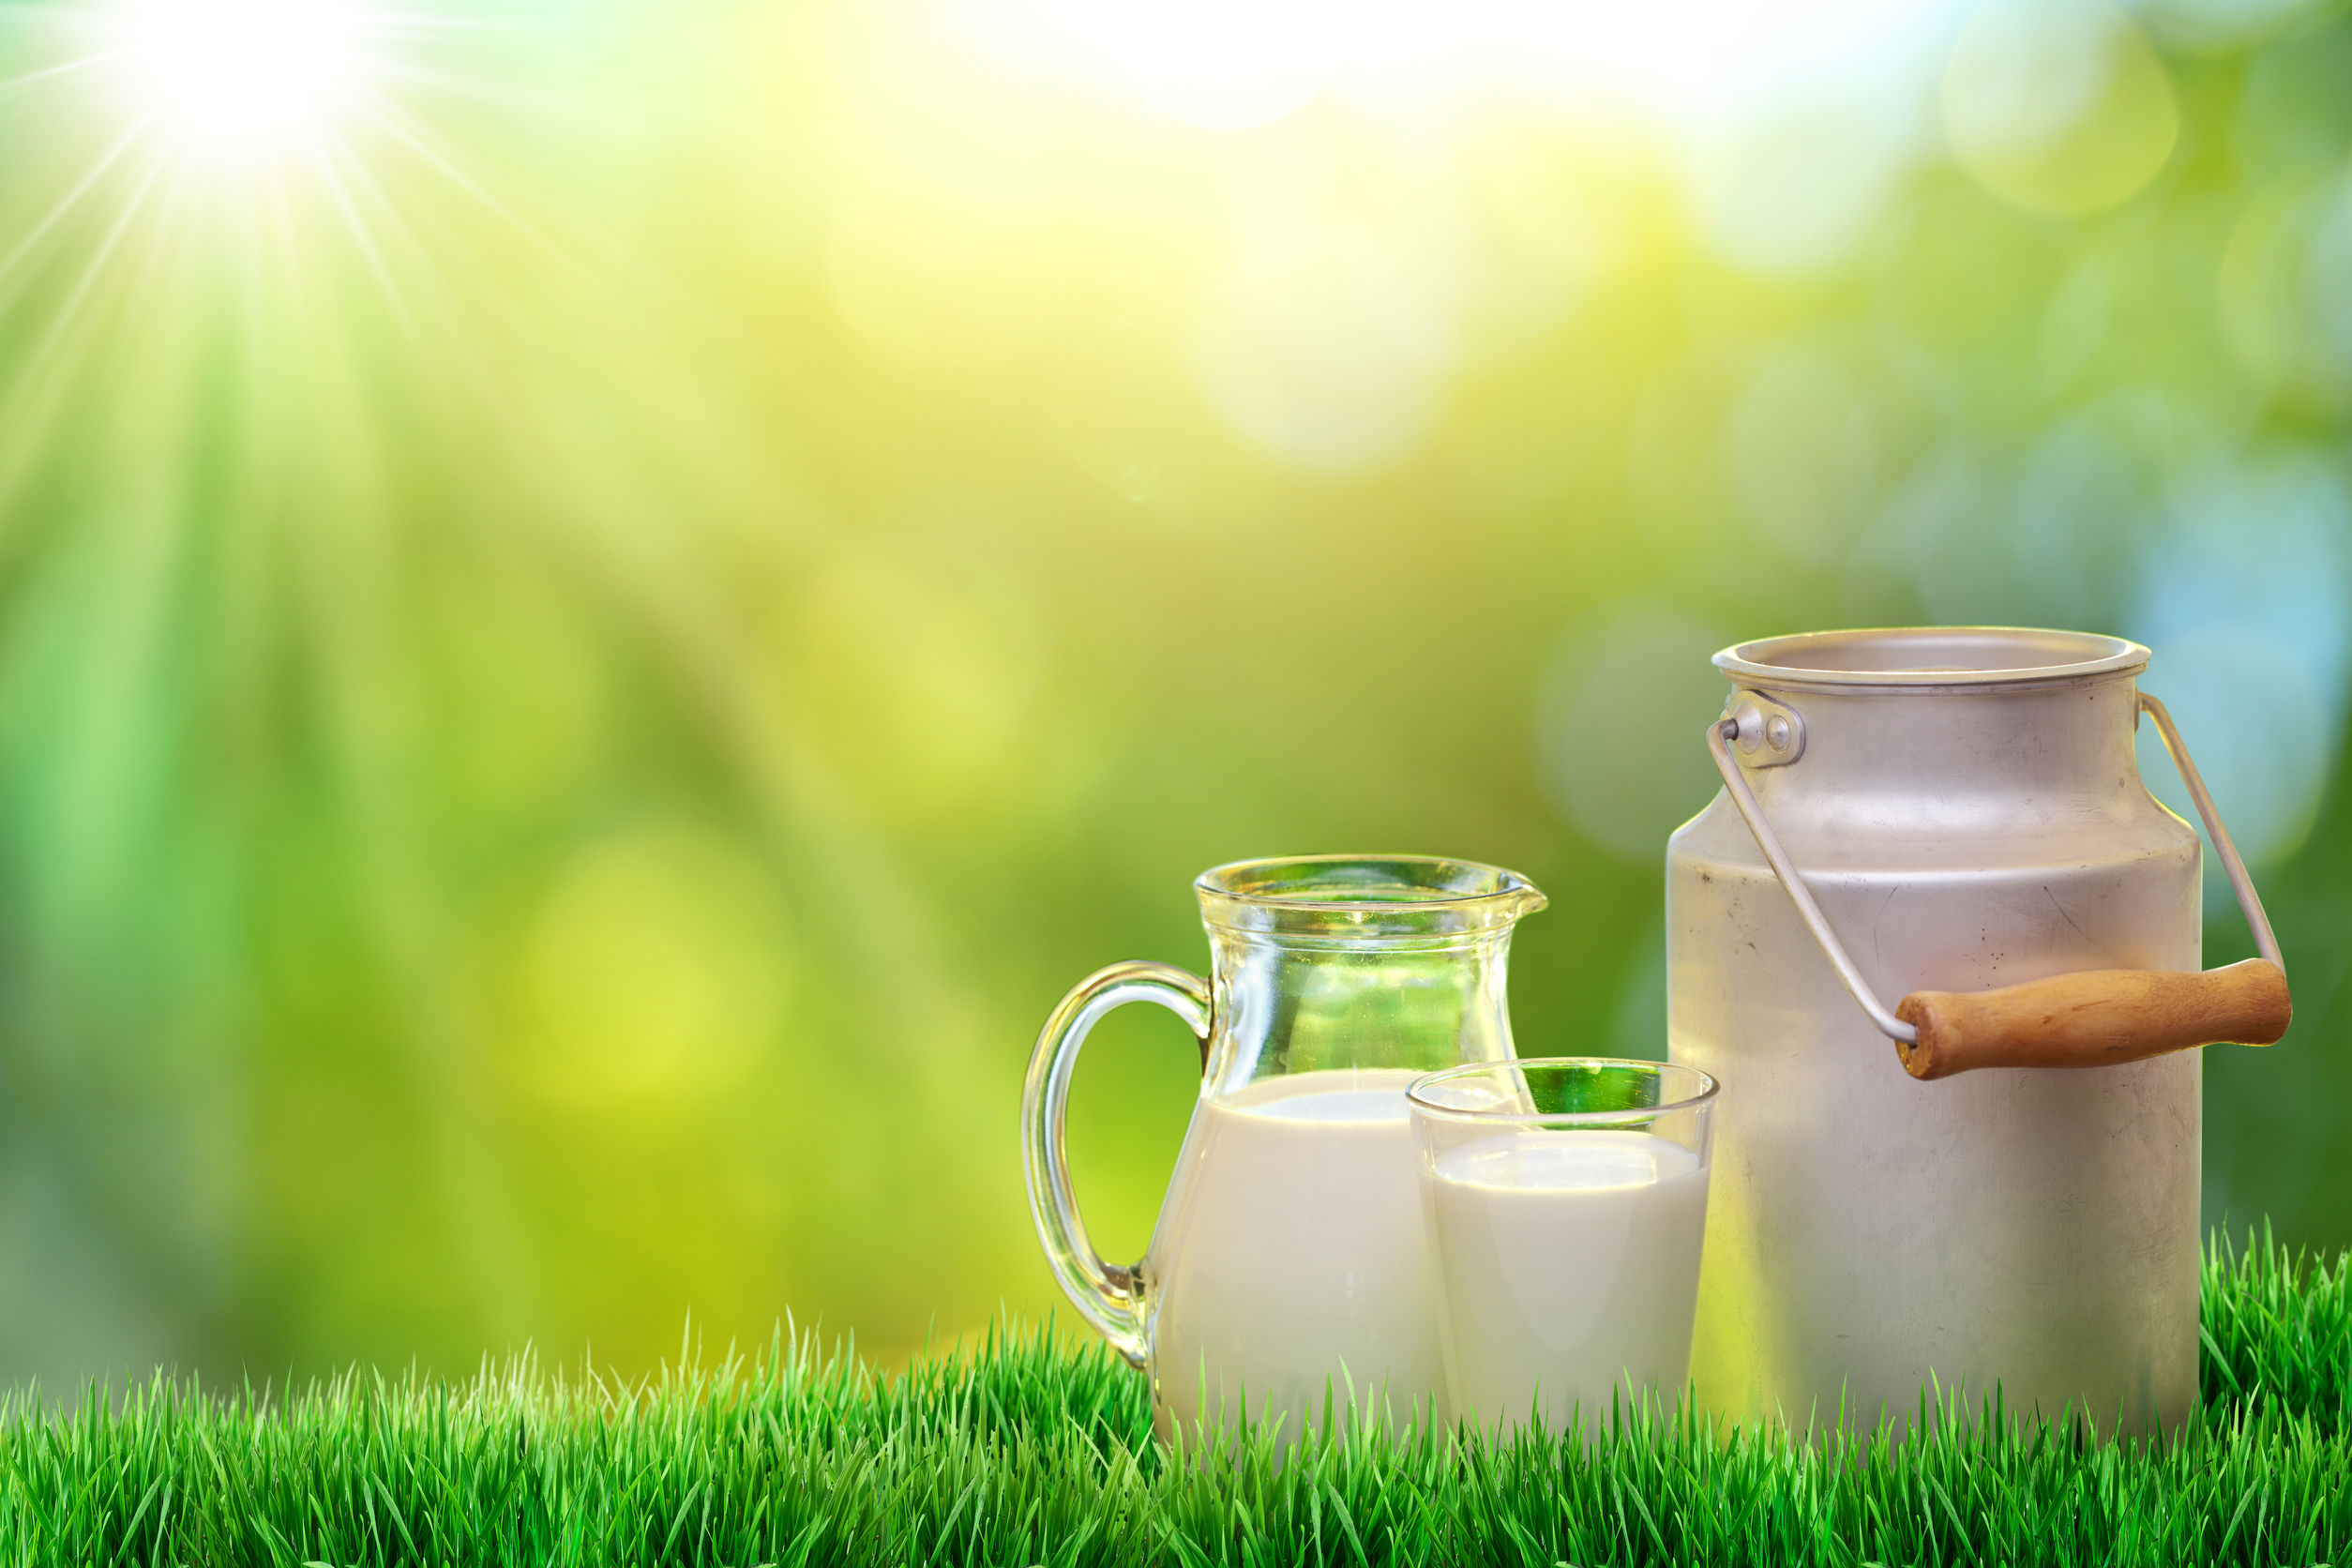glass of milk: (1213, 852, 1701, 1428)
